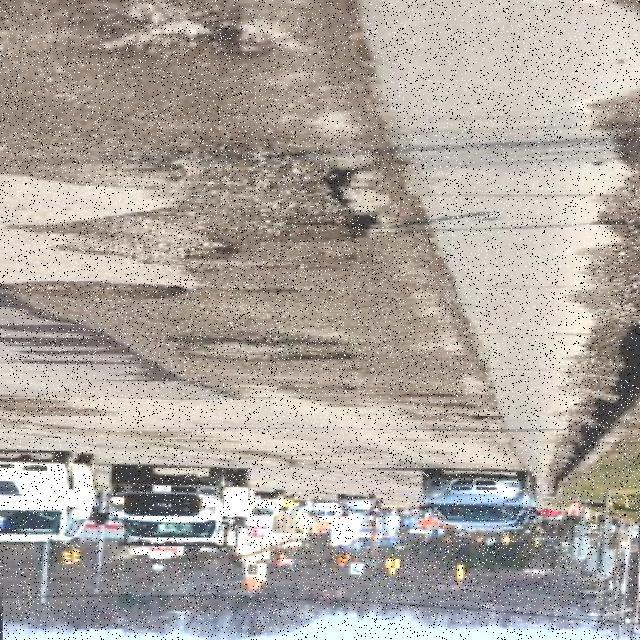Pothole: (8, 137, 382, 274), (169, 325, 356, 368), (8, 277, 201, 303)
